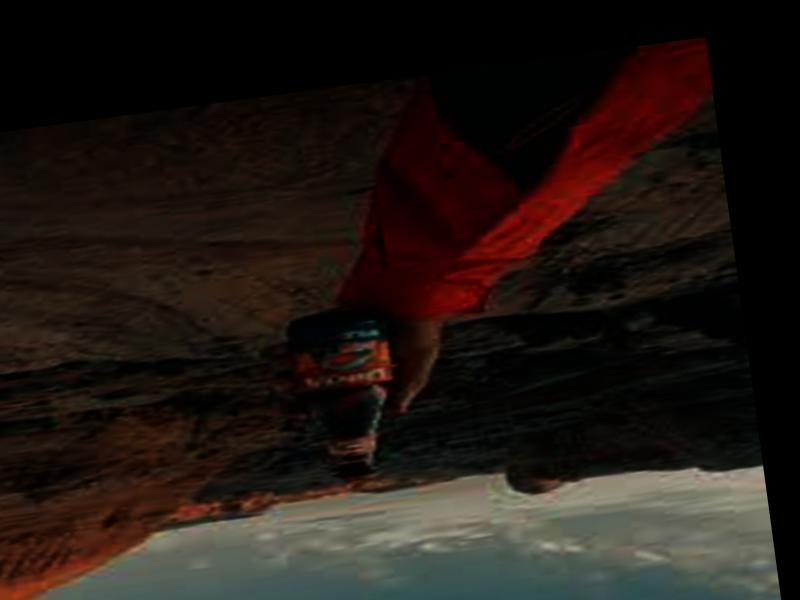Beer: (280, 305, 418, 485)
